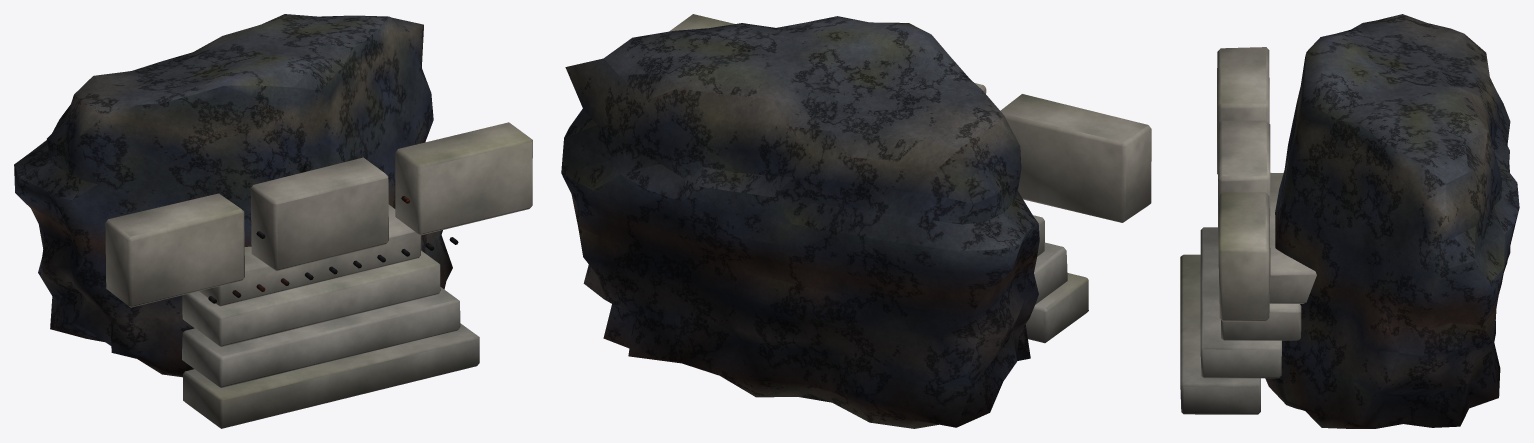
Rendered from mined_face.glb.
3 renders of one model, left to right at view 1: azimuth 30°, elevation 25°; view 2: azimuth 150°, elevation 25°; view 3: azimuth 270°, elevation 25°, orthographic. The views are drawn at different scales.
Parts seen in each view (by area): view 1: mined_face; view 2: mined_face; view 3: mined_face.
Boxes of the visible parts, x1,y1,x2,y2 form: mined_face: [14, 14, 532, 428]; mined_face: [561, 14, 1151, 428]; mined_face: [1180, 14, 1519, 428].
Bounding box in the file's own units: 8.42 × 5.81 × 5.93.
3 materials, 3 textured.
